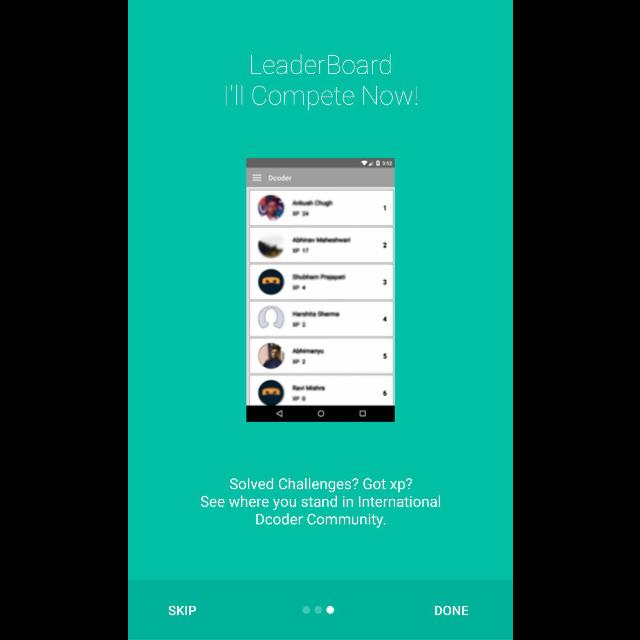image: (246, 158, 394, 422)
pageindicator: (301, 606, 333, 614)
text: (200, 477, 440, 527), (224, 55, 418, 111), (434, 605, 468, 615), (168, 606, 196, 616)
